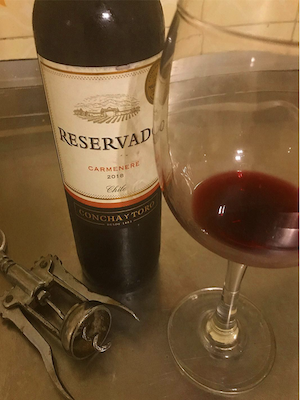reservado carmenere: (31, 7, 169, 302)
